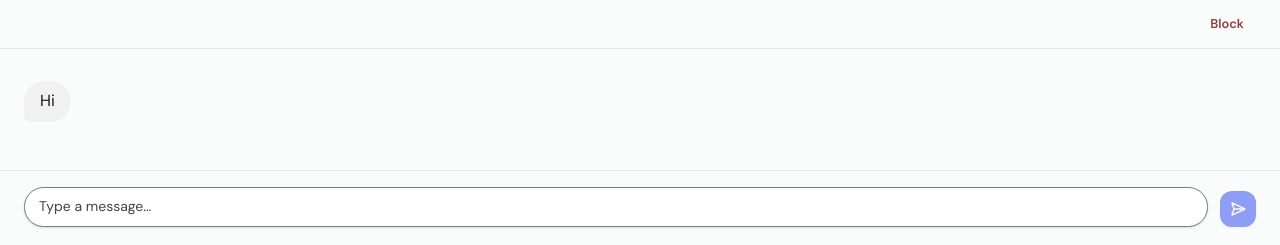
Scenario: ChatWindow Block control (WS-MSG-05) › blocks the other user via the discovery API and closes the composer
The image size is (1280, 245).
Click the button "Block": (1227, 24) [1198,8,1256,40]
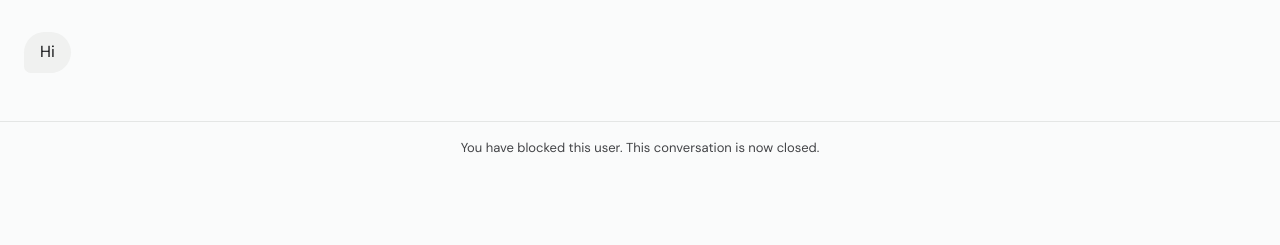
Check: the text box with test id "chat-composer" is gone
Check: the text "You have blocked this user. This conversation is now closed." is shown, box [0,121,1279,174]
